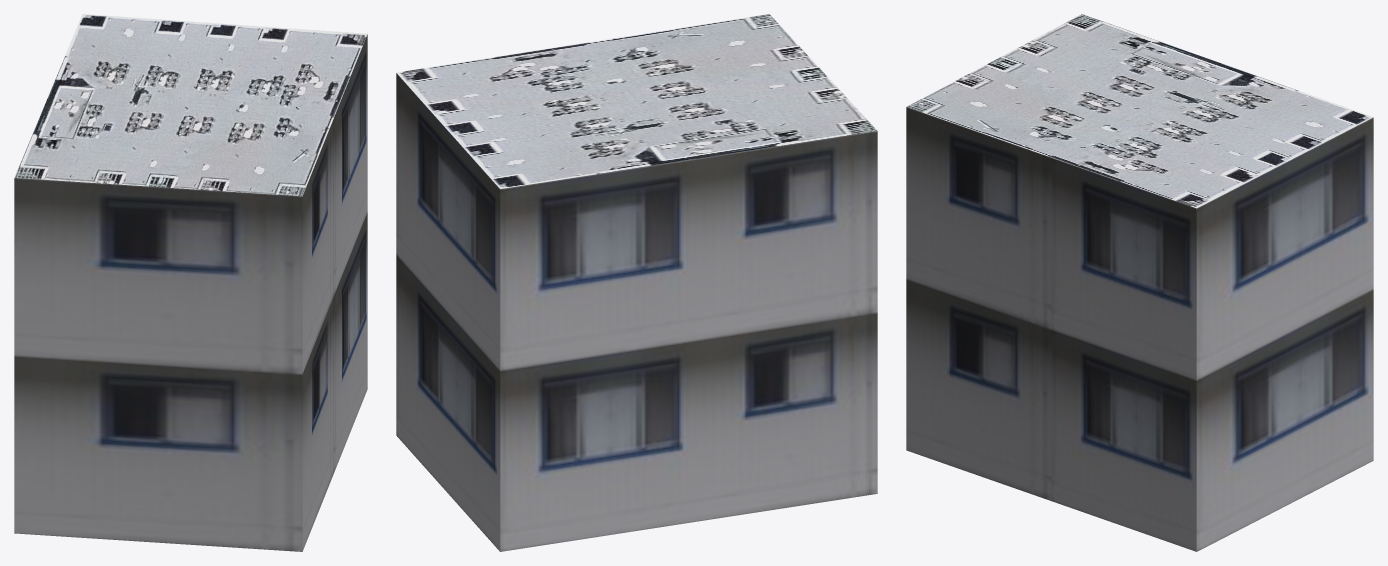
The model's file is ResTex__2958.fbx.
3 renders of one model, left to right at view 1: azimuth 30°, elevation 25°; view 2: azimuth 150°, elevation 25°; view 3: azimuth 270°, elevation 25°, orthographic. The views are drawn at different scales.
Parts seen in each view (by area): view 1: CityEngineMaterial_9_m, CityEngineMaterial_8_m; view 2: CityEngineMaterial_9_m, CityEngineMaterial_8_m; view 3: CityEngineMaterial_9_m, CityEngineMaterial_8_m.
Part boxes in pixels (box(x1,y1,x2,y2)): CityEngineMaterial_9_m: box(14, 34, 367, 551); CityEngineMaterial_8_m: box(14, 14, 367, 196); CityEngineMaterial_9_m: box(396, 73, 877, 551); CityEngineMaterial_8_m: box(396, 14, 877, 188); CityEngineMaterial_9_m: box(906, 107, 1373, 551); CityEngineMaterial_8_m: box(907, 14, 1373, 208).
Size of the model in its own units: 7.29 by 6 by 7.4.
Materials: 2 (2 with a texture image).
